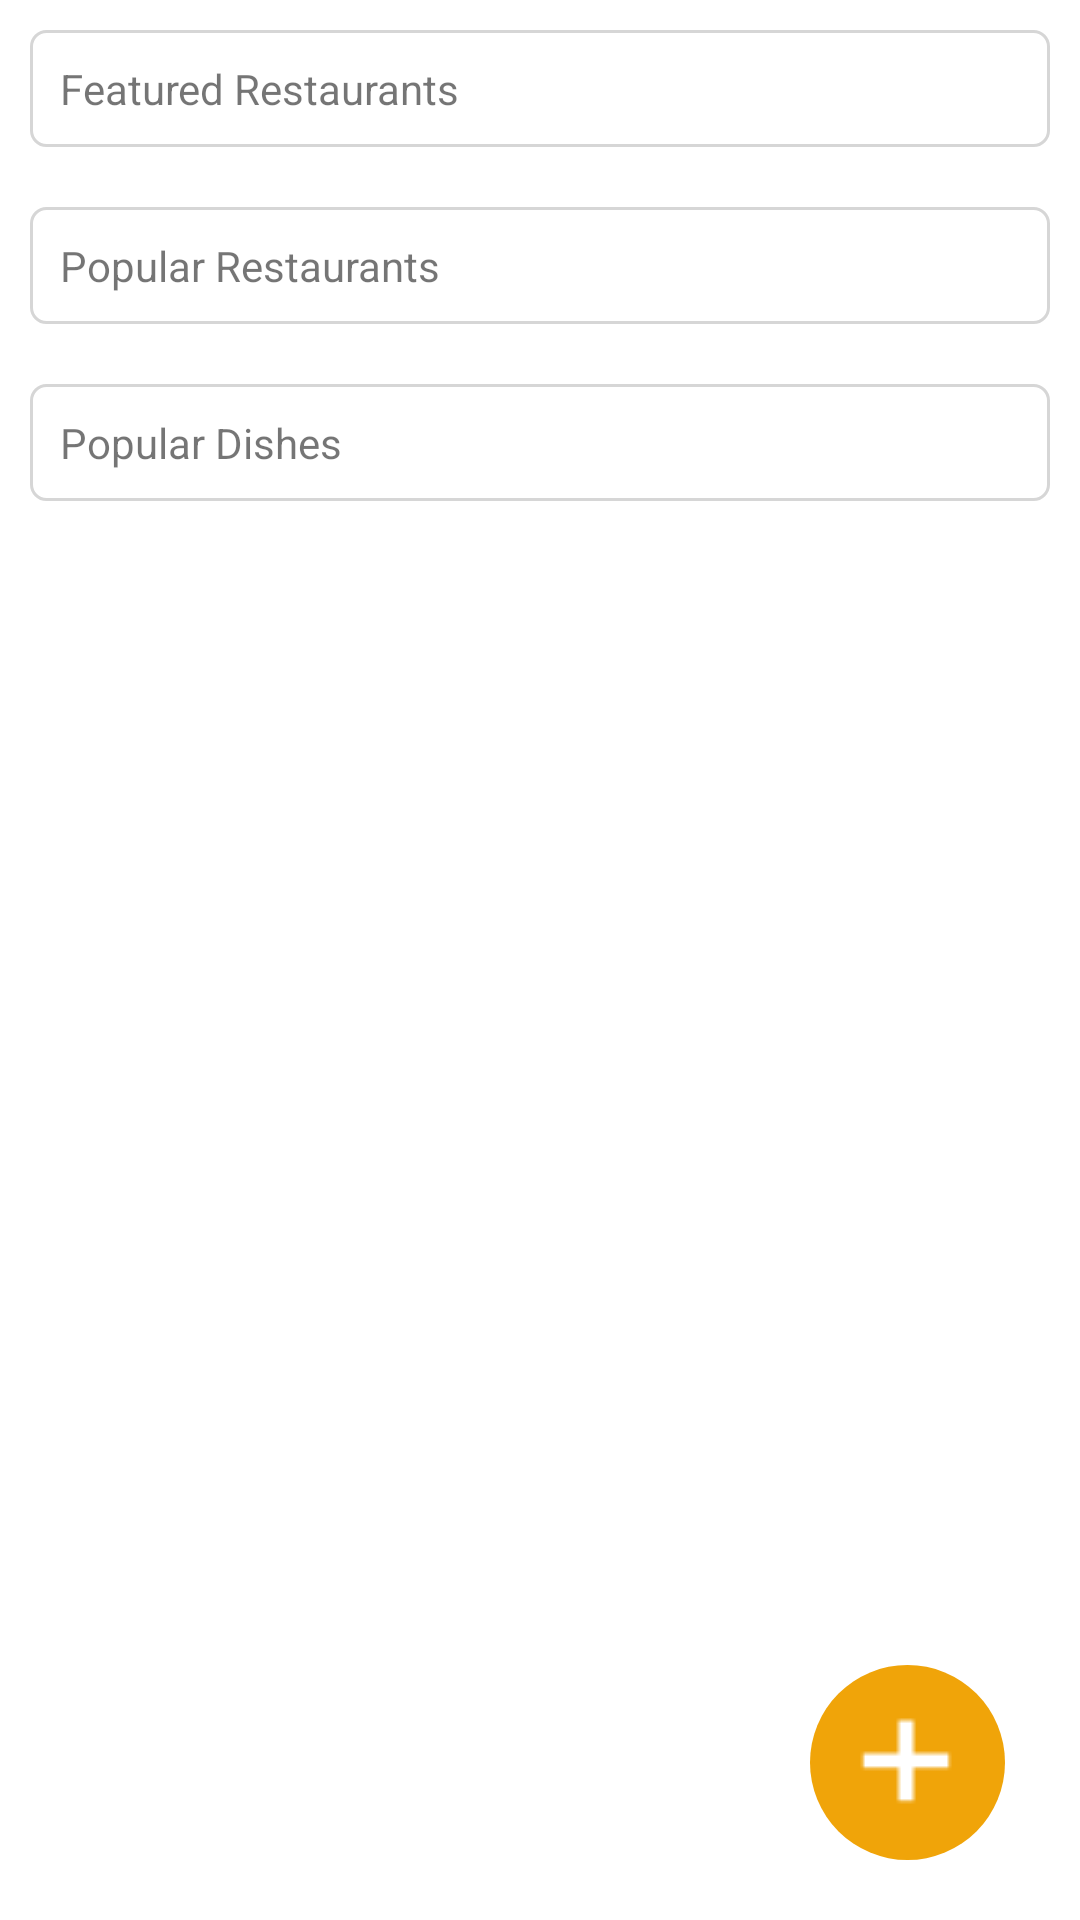

Where to tap for icons on this 1080px×1920px app screen, as (x=x, y=y):
add: (x=907, y=1762)
